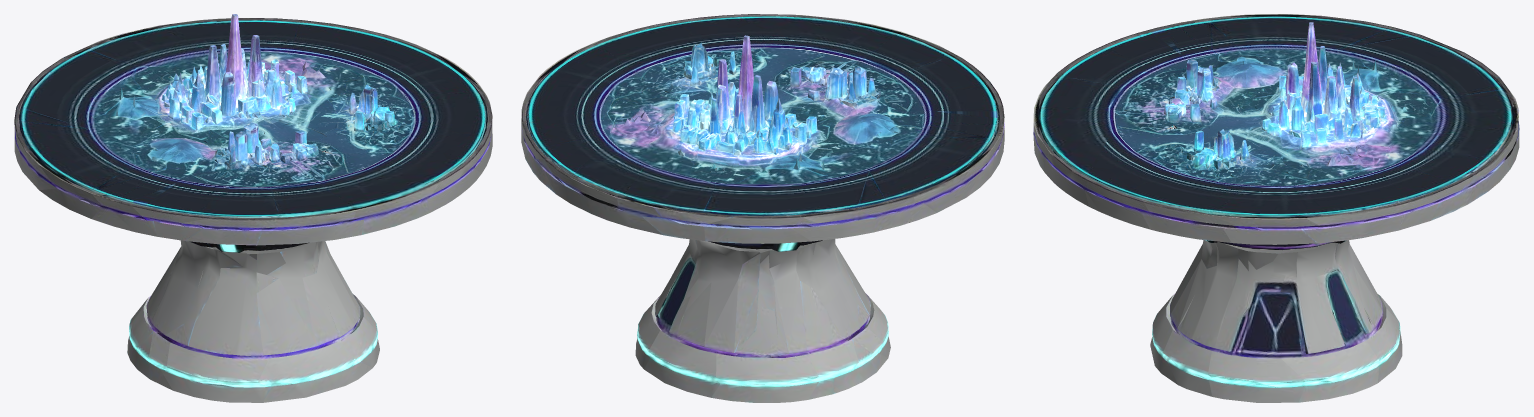
3 renders of one model, left to right at view 1: azimuth 30°, elevation 25°; view 2: azimuth 150°, elevation 25°; view 3: azimuth 270°, elevation 25°, orthographic.
Parts seen in each view (by area): view 1: Mesh_0; view 2: Mesh_0; view 3: Mesh_0.
Boxes of the visible parts, bbox=[...] form: Mesh_0: bbox=[14, 14, 492, 402]; Mesh_0: bbox=[521, 14, 1004, 402]; Mesh_0: bbox=[1033, 14, 1519, 402].
Size of the model in its own units: 1.9 by 1.41 by 1.9.
1 material, 1 textured.
